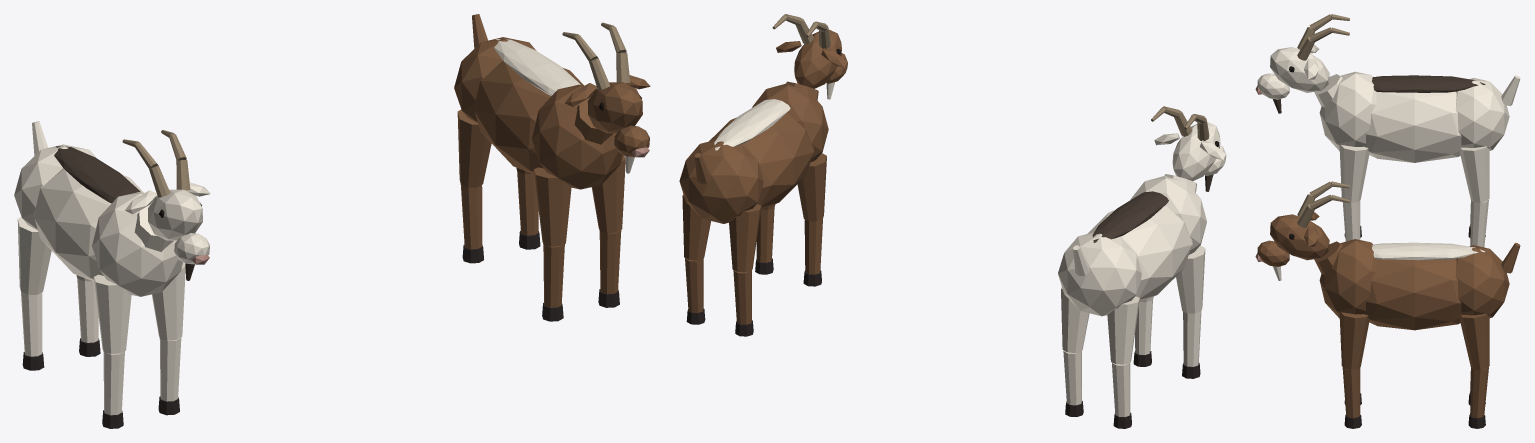
The model's file is Chevre.fbx.
The picture shows the model from 3 angles, left to right: view 1: azimuth 30°, elevation 25°; view 2: azimuth 150°, elevation 25°; view 3: azimuth 270°, elevation 25°; orthographic projection. The views are drawn at different scales.
Visible parts, largest first — view 1: Chevre2_Corps_PelageBrun, Chevre1_Corps_Pelage, Chevre1_Tete_Pelage, Chevre2_Tete_PelageBrun, Chevre1_Corps_Sombre, Chevre2_Corps_Pelage, Chevre1_Tete_Cornes, Chevre2_Tete_Cornes, Chevre2_Corps_Sabots, Chevre1_Corps_Sabots; view 2: Chevre1_Corps_Pelage, Chevre2_Corps_PelageBrun, Chevre2_Tete_PelageBrun, Chevre1_Tete_Pelage, Chevre1_Corps_Sombre, Chevre2_Corps_Pelage, Chevre2_Corps_Sabots, Chevre1_Corps_Sabots, Chevre1_Tete_Cornes, Chevre2_Tete_Cornes; view 3: Chevre2_Corps_PelageBrun, Chevre1_Corps_Pelage, Chevre2_Tete_PelageBrun, Chevre1_Tete_Pelage, Chevre1_Corps_Sombre, Chevre2_Corps_Pelage, Chevre1_Tete_Cornes, Chevre2_Tete_Cornes, Chevre2_Corps_Sabots.
Part boxes in pixels (x1,y1,x2,y2): Chevre2_Corps_PelageBrun: [454, 14, 625, 307]; Chevre1_Corps_Pelage: [14, 121, 185, 415]; Chevre1_Tete_Pelage: [125, 182, 210, 264]; Chevre2_Tete_PelageBrun: [565, 75, 650, 156]; Chevre1_Corps_Sombre: [54, 146, 140, 203]; Chevre2_Corps_Pelage: [494, 39, 580, 95]; Chevre1_Tete_Cornes: [122, 130, 190, 197]; Chevre2_Tete_Cornes: [562, 22, 630, 90]; Chevre2_Corps_Sabots: [462, 231, 619, 321]; Chevre1_Corps_Sabots: [22, 338, 179, 428]; Chevre1_Corps_Pelage: [1058, 174, 1206, 417]; Chevre2_Corps_PelageBrun: [679, 81, 828, 324]; Chevre2_Tete_PelageBrun: [776, 29, 847, 88]; Chevre1_Tete_Pelage: [1154, 122, 1226, 181]; Chevre1_Corps_Sombre: [1092, 191, 1168, 242]; Chevre2_Corps_Pelage: [714, 99, 790, 150]; Chevre2_Corps_Sabots: [686, 258, 821, 336]; Chevre1_Corps_Sabots: [1065, 351, 1200, 428]; Chevre1_Tete_Cornes: [1151, 106, 1209, 140]; Chevre2_Tete_Cornes: [772, 14, 830, 48]; Chevre2_Corps_PelageBrun: [1314, 239, 1520, 418]; Chevre1_Corps_Pelage: [1314, 71, 1520, 247]; Chevre2_Tete_PelageBrun: [1257, 212, 1329, 266]; Chevre1_Tete_Pelage: [1257, 45, 1329, 99]; Chevre1_Corps_Sombre: [1372, 75, 1485, 92]; Chevre2_Corps_Pelage: [1372, 242, 1485, 260]; Chevre1_Tete_Cornes: [1297, 14, 1349, 60]; Chevre2_Tete_Cornes: [1297, 181, 1349, 227]; Chevre2_Corps_Sabots: [1344, 393, 1485, 428].
Bounding box in the file's own units: 6.05 × 3.15 × 3.35.
